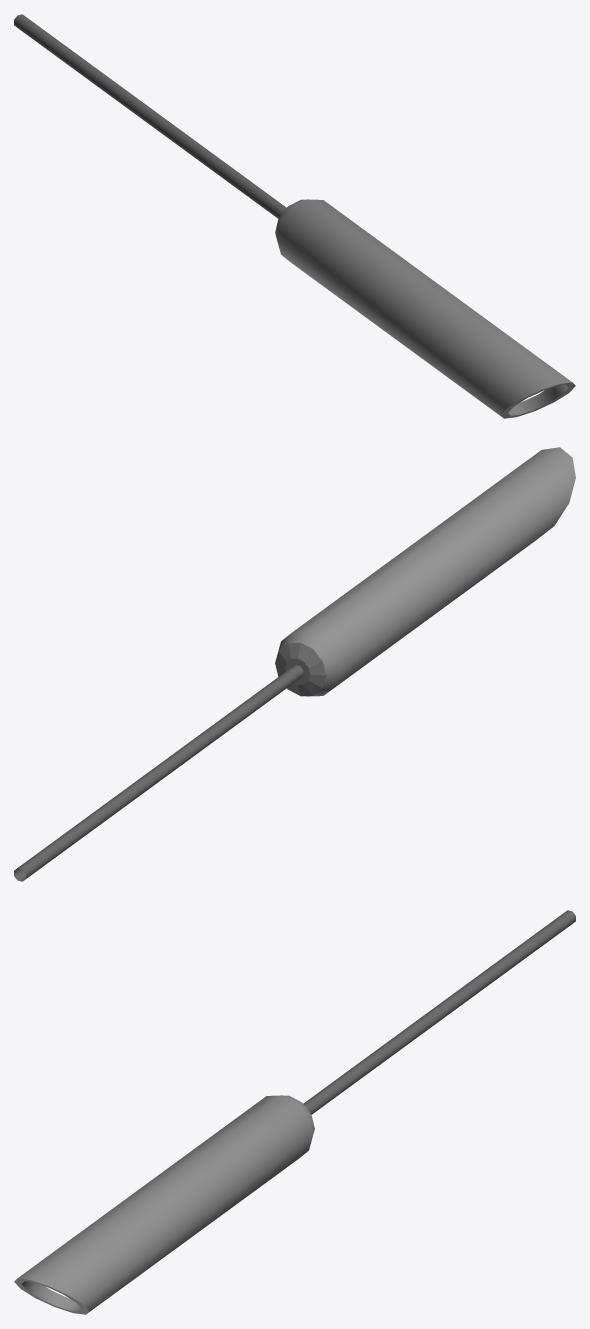
The model's file is Ceiling_Lamp_1_B.glb.
The picture shows the model from 3 angles, top to bottom: view 1: azimuth 30°, elevation 25°; view 2: azimuth 150°, elevation 25°; view 3: azimuth 330°, elevation 25°; orthographic projection.
Parts seen in each view (by area): view 1: Ceiling Lamp 1 B; view 2: Ceiling Lamp 1 B; view 3: Ceiling Lamp 1 B.
Part boxes in pixels (x1,y1,x2,y2): Ceiling Lamp 1 B: (14, 14, 575, 418); Ceiling Lamp 1 B: (14, 447, 575, 881); Ceiling Lamp 1 B: (14, 910, 575, 1314).
Bounding box in the file's own units: 0.04 × 0.04 × 0.6033.
2 materials, 1 textured.
